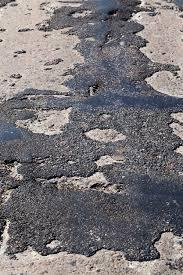pothole: (0, 218, 183, 275), (2, 0, 83, 104), (83, 122, 127, 147)
